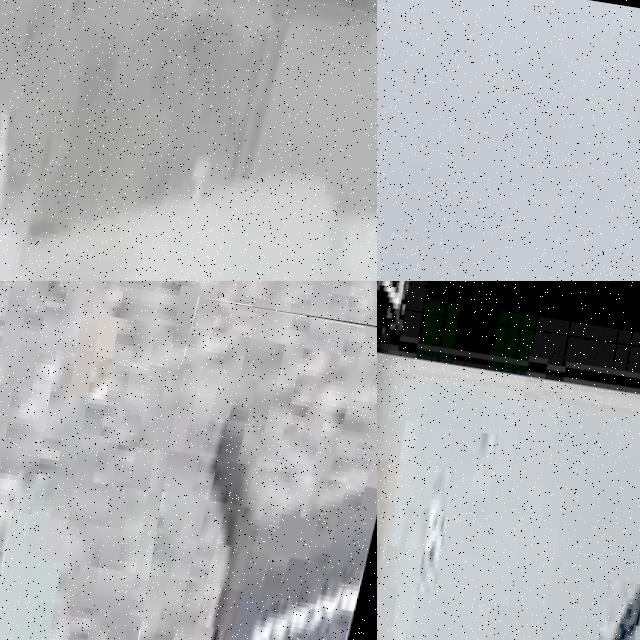drone: (0, 0, 377, 281), (132, 297, 377, 640)
